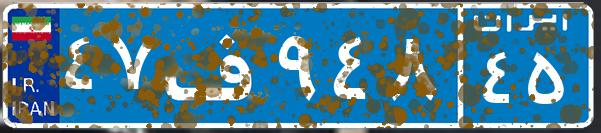4: (330, 28, 385, 110), (57, 26, 110, 107), (475, 38, 525, 113)
5: (525, 38, 570, 115)
7: (110, 28, 158, 105)
8: (385, 28, 445, 110)
9: (273, 28, 330, 110)
ف: (158, 15, 273, 115)
